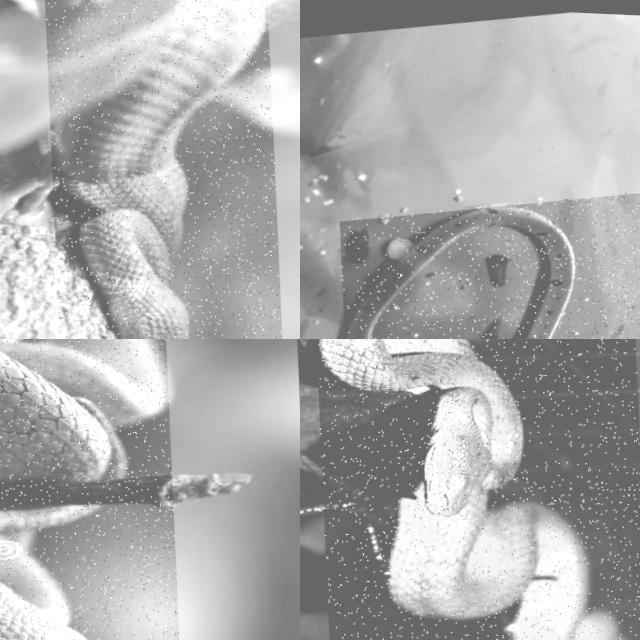Calliophis maculiceps: (345, 203, 573, 338)
Trimeresurus macrops: (319, 339, 627, 639), (51, 0, 266, 338), (0, 339, 168, 481)
snake: (319, 339, 627, 639), (51, 0, 266, 338), (345, 203, 573, 338), (0, 339, 168, 481)
